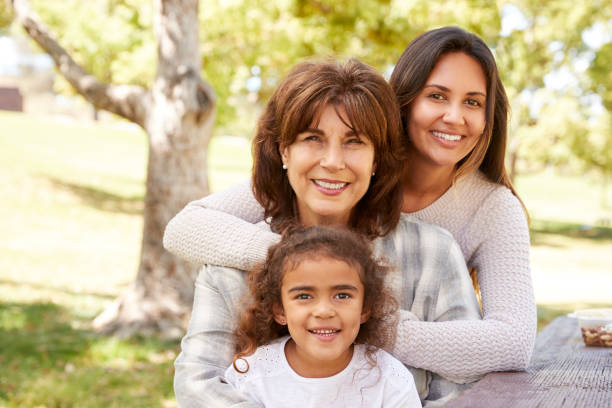face: (284, 114, 372, 216), (414, 63, 486, 166), (284, 268, 363, 358)
